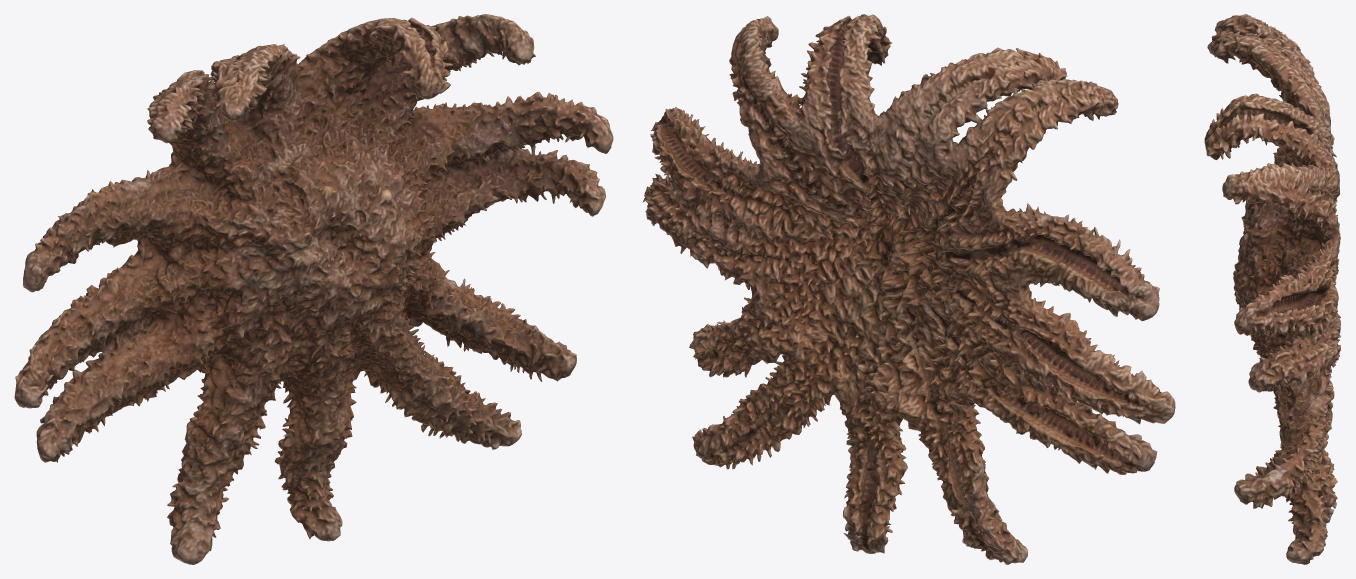
3 views of the same model, side by side, from view 1: azimuth 30°, elevation 25°; view 2: azimuth 150°, elevation 25°; view 3: azimuth 270°, elevation 25° (orthographic). The views are drawn at different scales.
Visible parts, largest first — view 1: Acanthaster_brevispinus-unwrapped-webmulti; view 2: Acanthaster_brevispinus-unwrapped-webmulti; view 3: Acanthaster_brevispinus-unwrapped-webmulti.
Part boxes in pixels (bbox=[...]): Acanthaster_brevispinus-unwrapped-webmulti: bbox=[14, 14, 613, 564]; Acanthaster_brevispinus-unwrapped-webmulti: bbox=[642, 14, 1175, 564]; Acanthaster_brevispinus-unwrapped-webmulti: bbox=[1204, 14, 1341, 564].
Size of the model in its own units: 6931 by 6163 by 1678.
1 material, 1 textured.
